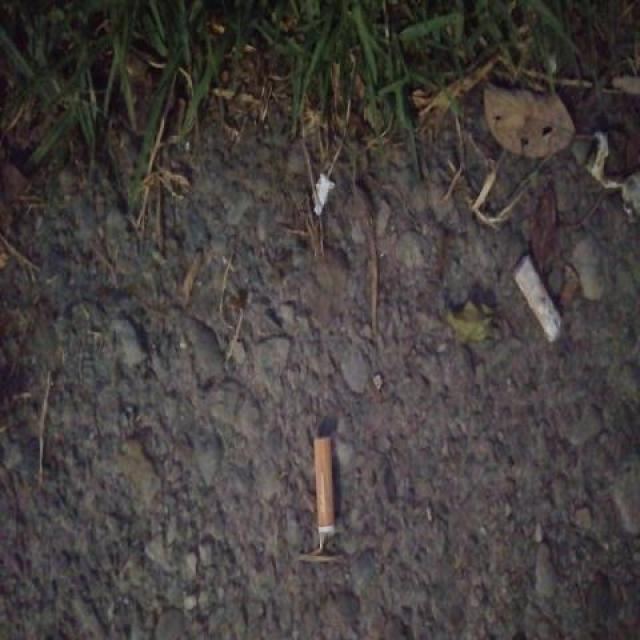non-organic waste: (508, 250, 571, 351), (309, 431, 343, 553)
